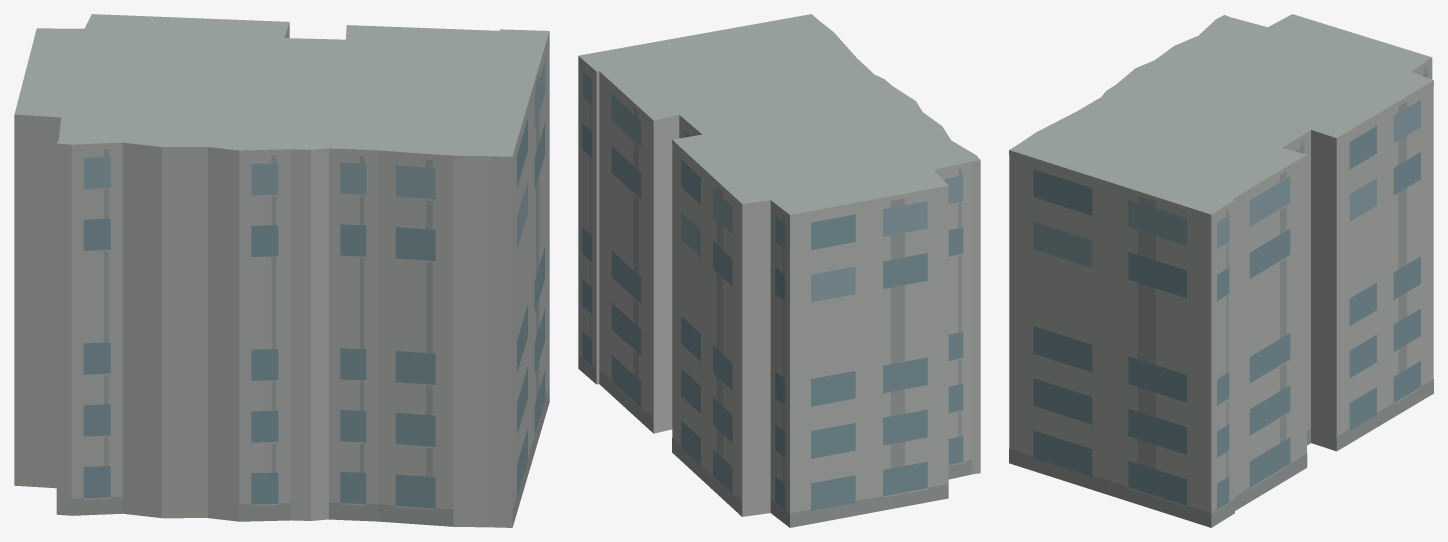
File: survey-upis-32970888.glb
3 renders of one model, left to right at view 1: azimuth 30°, elevation 25°; view 2: azimuth 150°, elevation 25°; view 3: azimuth 270°, elevation 25°, orthographic. The views are drawn at different scales.
Visible parts, largest first — view 1: survey-upis-32970888.tmp; view 2: survey-upis-32970888.tmp; view 3: survey-upis-32970888.tmp.
Part boxes in pixels (x1,y1,x2,y2): survey-upis-32970888.tmp: (14, 14, 549, 527); survey-upis-32970888.tmp: (578, 14, 980, 527); survey-upis-32970888.tmp: (1009, 14, 1433, 527).
Size of the model in its own units: 21.57 by 15.7 by 19.29.
